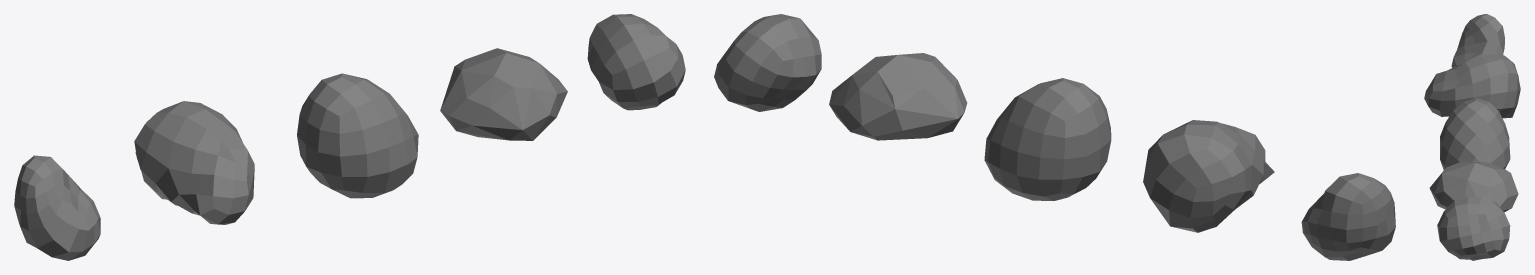
The model's file is Rocks.fbx.
The picture shows the model from 3 angles, left to right: view 1: azimuth 30°, elevation 25°; view 2: azimuth 150°, elevation 25°; view 3: azimuth 270°, elevation 25°; orthographic projection. The views are drawn at different scales.
Visible parts, largest first — view 1: Rock_3, Rock_4, Rock_2, Rock_1, Rock_5; view 2: Rock_3, Rock_4, Rock_2, Rock_1, Rock_5; view 3: Rock_4, Rock_3, Rock_1, Rock_2, Rock_5.
Boxes of the visible parts, x1,y1,x2,y2 form: Rock_3: (297, 73, 418, 198); Rock_4: (134, 101, 254, 224); Rock_2: (440, 48, 567, 140); Rock_1: (587, 14, 685, 110); Rock_5: (14, 155, 100, 260); Rock_3: (984, 78, 1111, 200); Rock_4: (1143, 120, 1274, 232); Rock_2: (829, 53, 967, 140); Rock_1: (714, 14, 821, 111); Rock_5: (1301, 173, 1395, 260); Rock_4: (1424, 54, 1520, 118); Rock_3: (1440, 98, 1510, 170); Rock_1: (1437, 196, 1510, 260); Rock_2: (1429, 161, 1518, 212); Rock_5: (1451, 14, 1504, 67).
Bounding box in the file's own units: 204 × 35.58 × 39.78.
